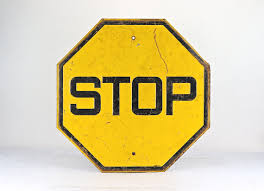SS: (57, 18, 211, 173)
